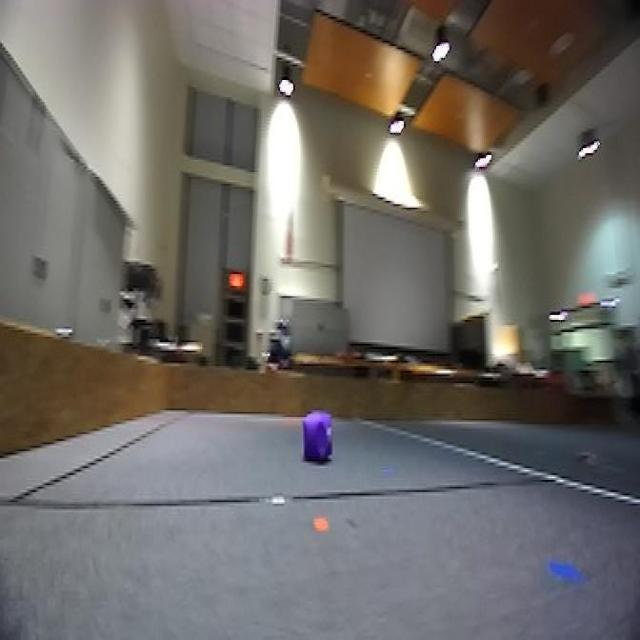frc_cube: (302, 411, 335, 466)
